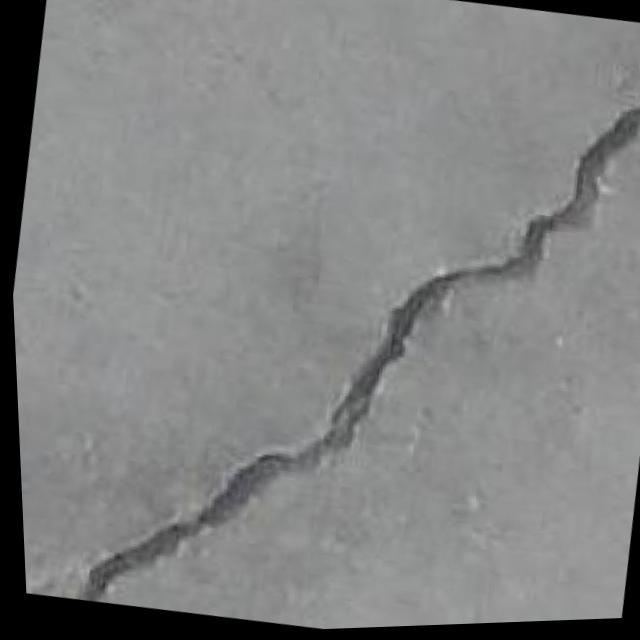Crack: (27, 2, 640, 639)
